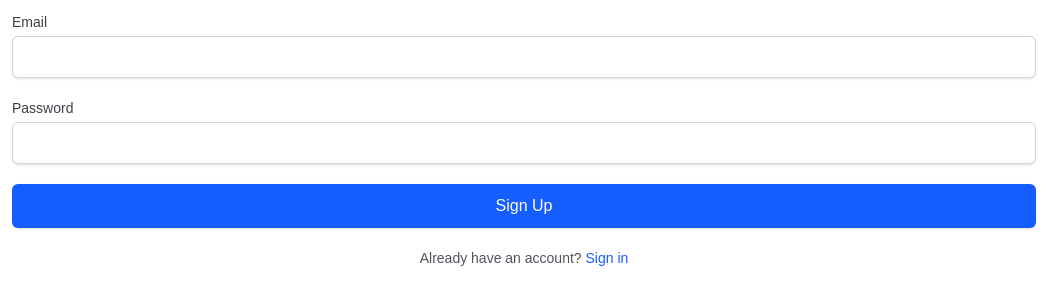
SignupForm › shows validation error for empty email on submit
Only fill password, leave email empty
Type "password123" into the password field labelled "Password". click: {"x": 524, "y": 143}
box: top-left (12, 122), bottom-right (1036, 164)
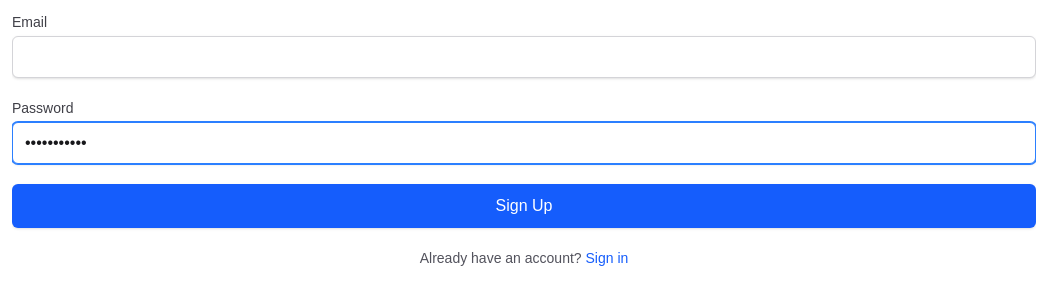
Click the button "Sign Up". click: {"x": 524, "y": 206}
box: top-left (12, 184), bottom-right (1036, 228)
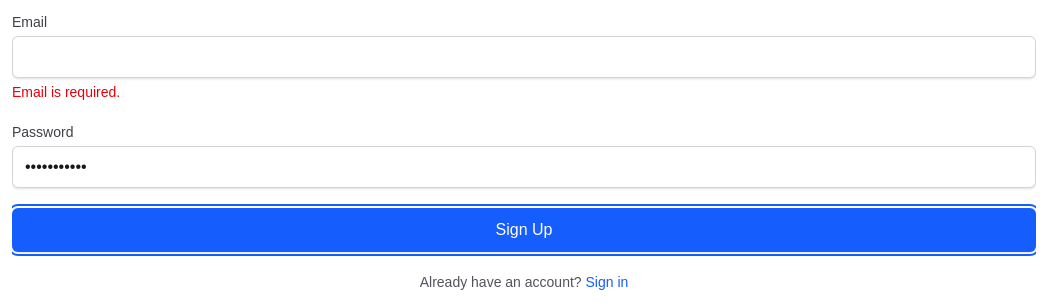
Expected: the text "Email is required." is shown, top-left (12, 84), bottom-right (120, 100)
